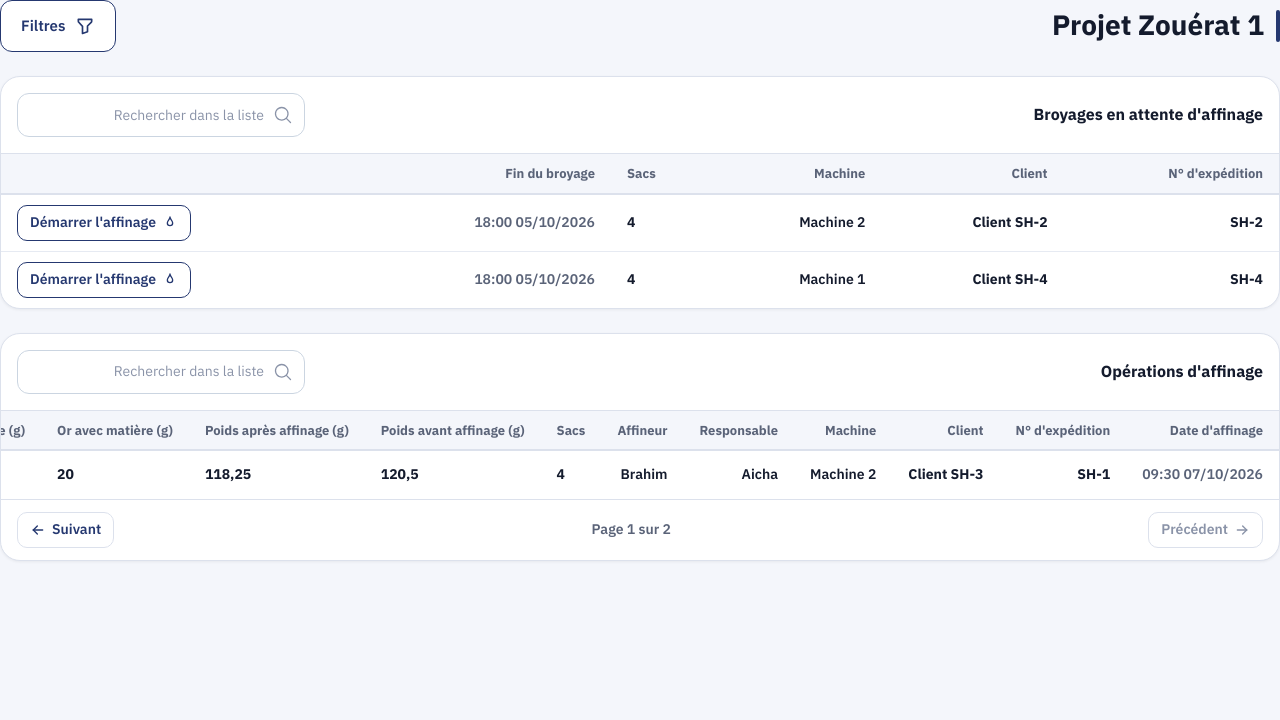
Test: RefiningScreen pages › stays on the page of the refining opened once its drawer is closed
Click the button "Suivant" at (66, 530), box x1=17 y1=512 x2=114 y2=548
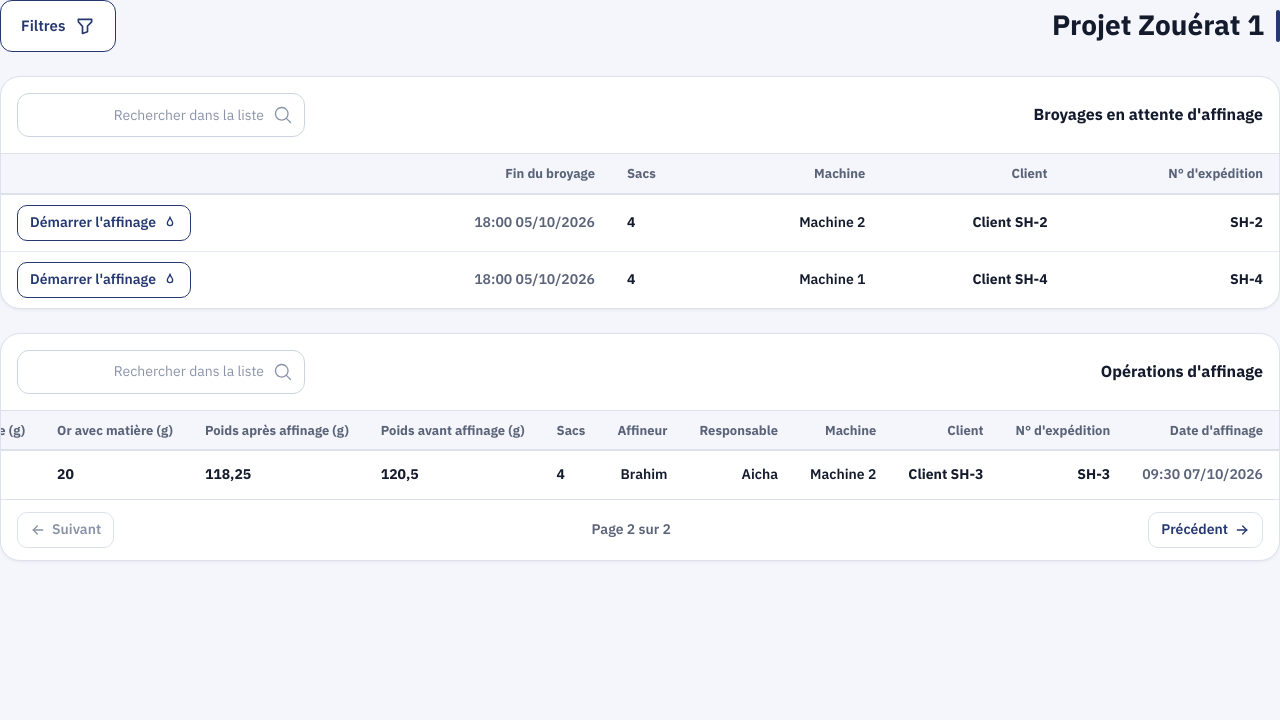
Click the link "SH-3" at (1094, 475), box x1=1077 y1=464 x2=1110 y2=485
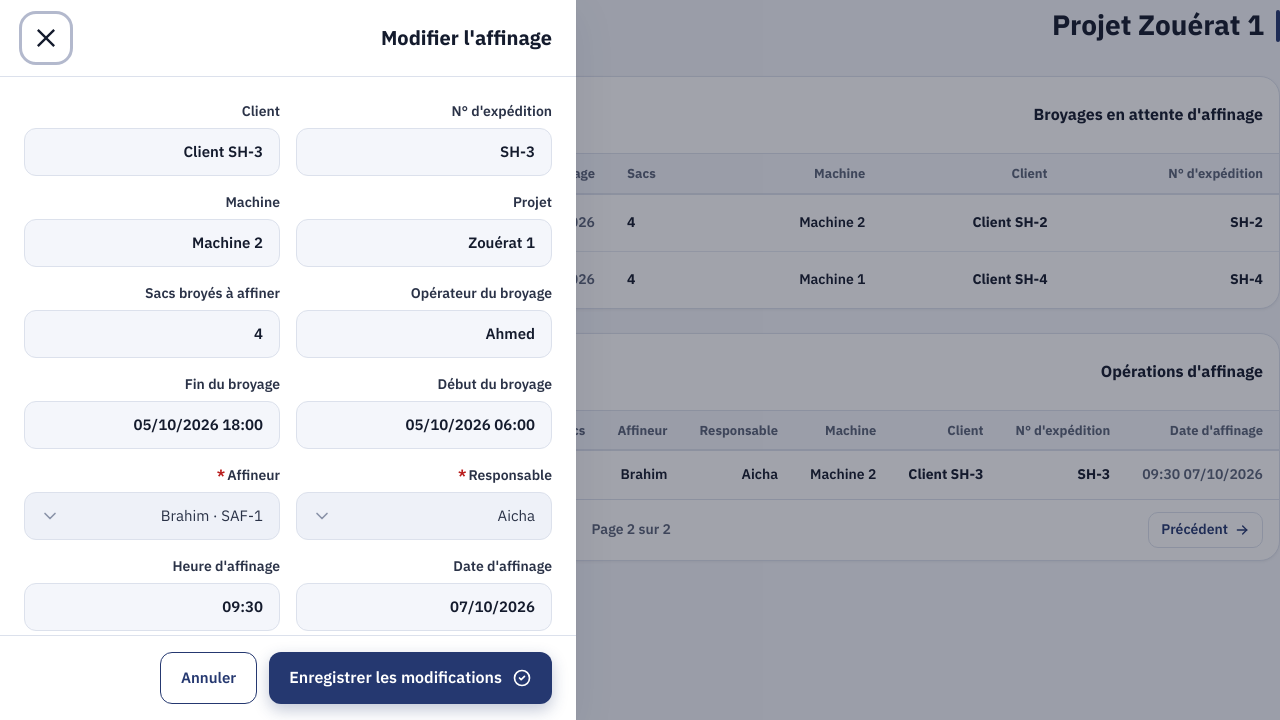
Click the button named "Fermer" at (46, 38), box x1=24 y1=16 x2=68 y2=60
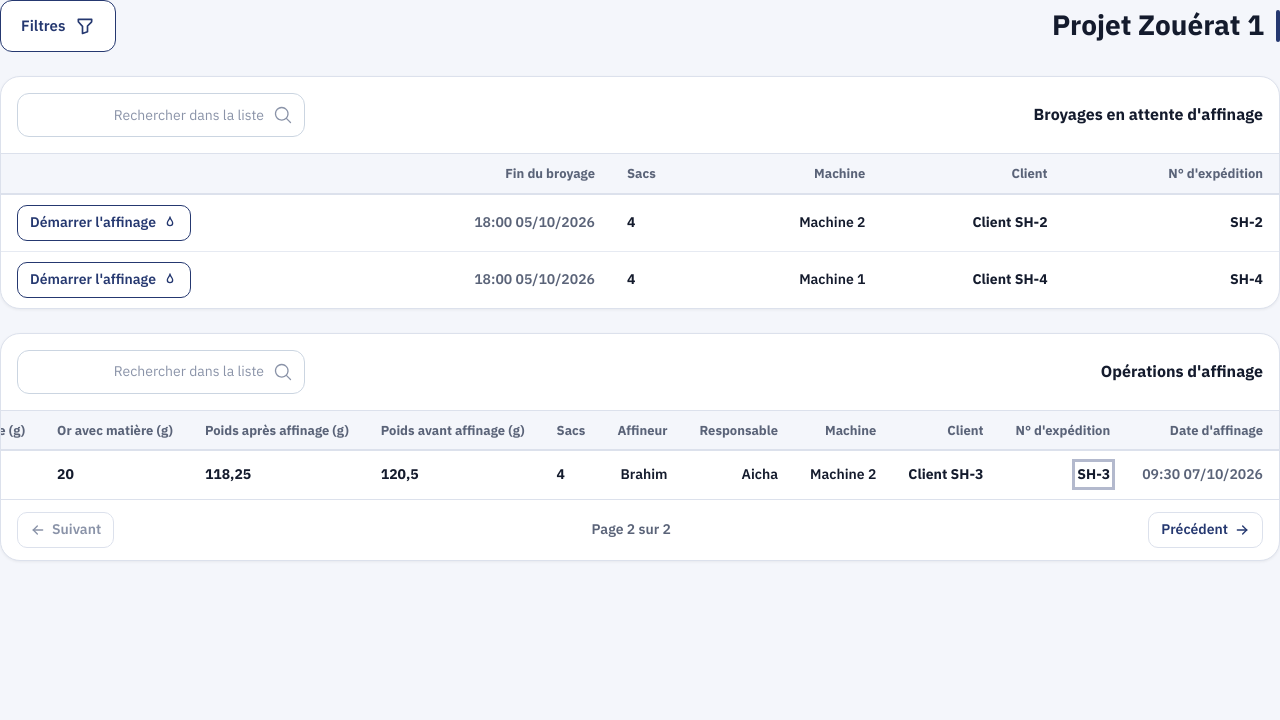
Check: the link "SH-1" is not shown
Check: the link "SH-3" is shown, box x1=1077 y1=464 x2=1110 y2=485
Check: the dialog is gone
